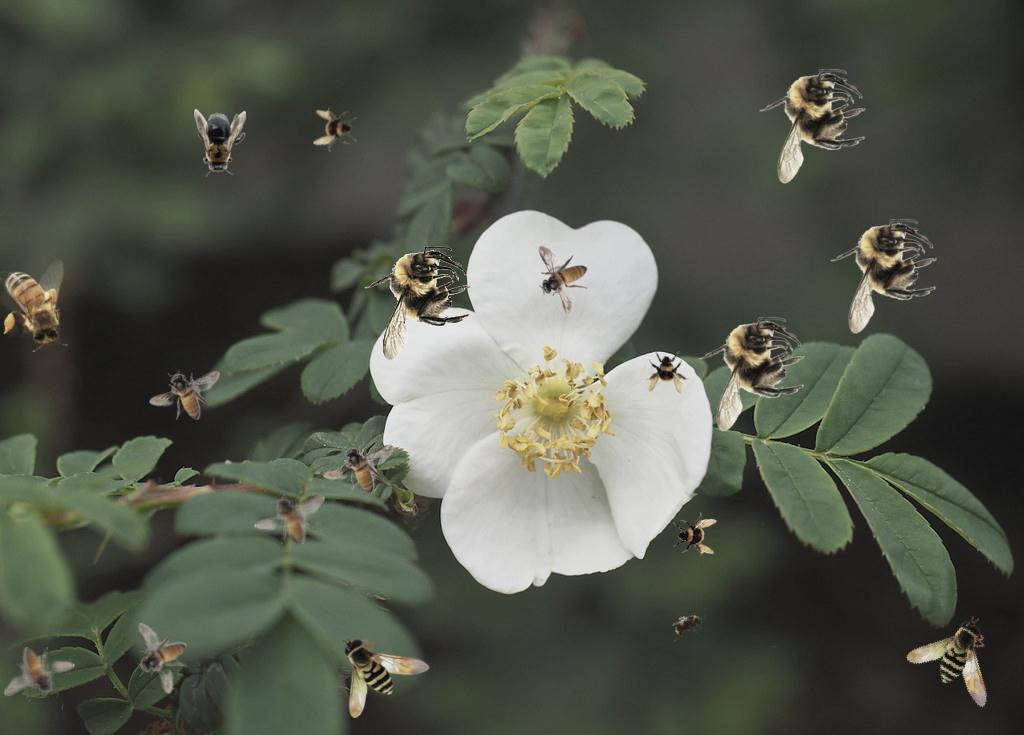Bee: (901, 614, 1013, 728), (364, 246, 471, 361), (830, 219, 937, 334), (759, 69, 866, 184), (698, 317, 805, 432), (342, 636, 430, 718), (0, 259, 68, 352), (149, 370, 220, 420), (538, 245, 588, 316), (254, 494, 325, 544), (323, 444, 394, 494), (137, 623, 187, 694), (4, 647, 75, 697), (194, 109, 246, 177), (646, 351, 690, 395), (673, 512, 717, 556), (313, 108, 357, 152), (666, 607, 712, 643)
